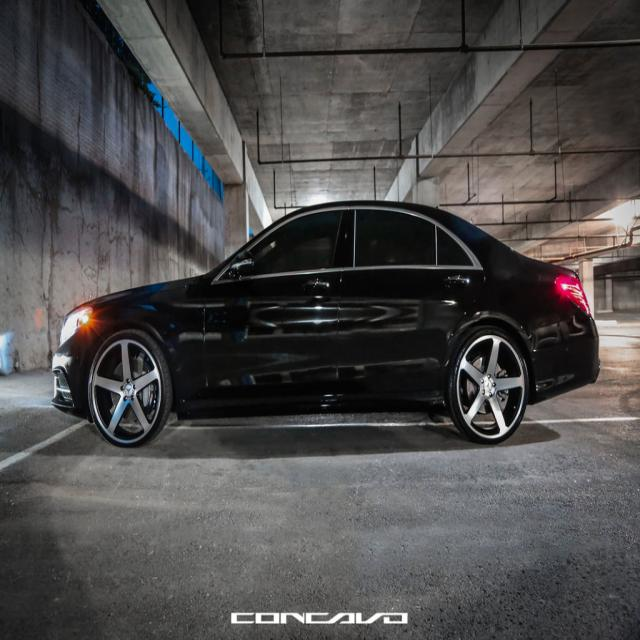car: (50, 197, 600, 445)
